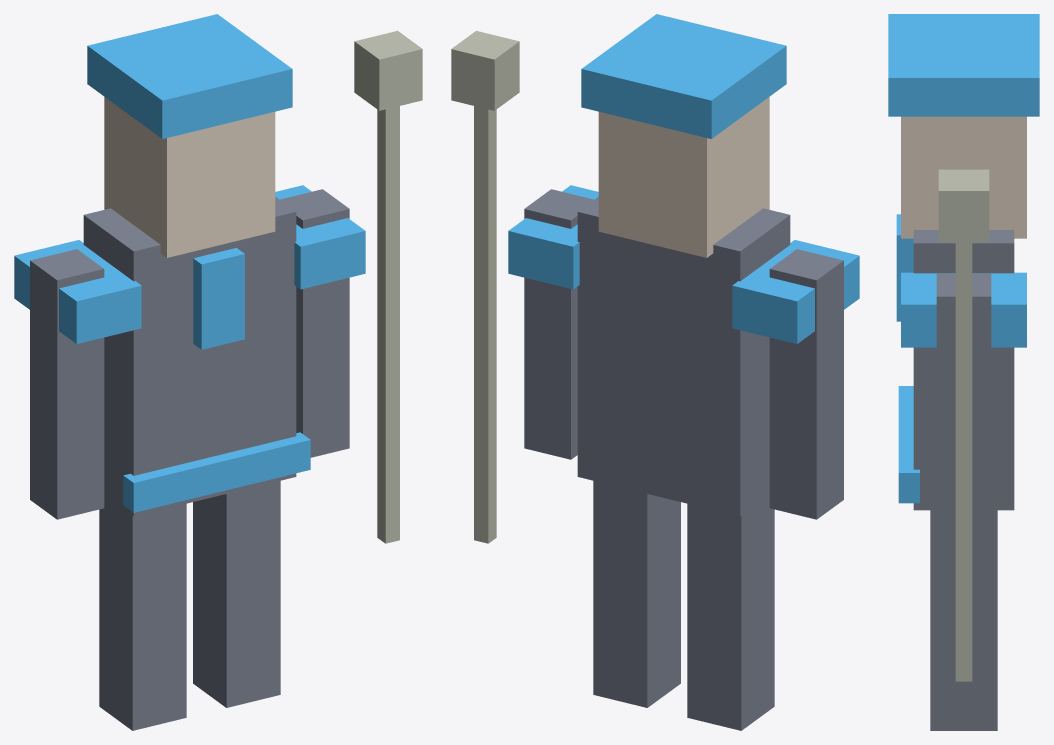
The model's file is 20_ossa_latchward_responder_under_cargo.glb.
3 renders of one model, left to right at view 1: azimuth 30°, elevation 25°; view 2: azimuth 150°, elevation 25°; view 3: azimuth 270°, elevation 25°, orthographic.
Visible parts, largest first — view 1: Ossa Latchward, Responder under Cargo; view 2: Ossa Latchward, Responder under Cargo; view 3: Ossa Latchward, Responder under Cargo.
Boxes of the visible parts, x1,y1,x2,y2 form: Ossa Latchward, Responder under Cargo: (14, 14, 422, 730); Ossa Latchward, Responder under Cargo: (451, 14, 859, 730); Ossa Latchward, Responder under Cargo: (888, 14, 1039, 730).
Bounding box in the file's own units: 0.9768 × 1.64 × 0.3464.
